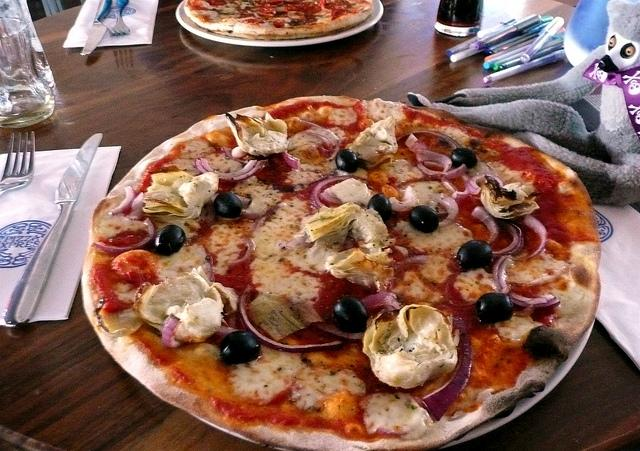onion: (238, 284, 344, 353), (420, 319, 472, 422), (91, 218, 157, 254), (423, 161, 470, 198), (510, 214, 547, 261), (195, 158, 262, 181), (396, 129, 464, 148), (311, 176, 348, 208), (201, 158, 257, 178), (472, 206, 499, 244), (492, 223, 524, 255), (311, 322, 364, 341), (506, 291, 560, 308), (360, 291, 401, 313), (226, 236, 255, 266), (415, 149, 452, 172), (418, 163, 468, 180), (466, 174, 504, 194), (111, 186, 136, 215), (307, 130, 334, 156), (162, 316, 182, 347), (498, 255, 512, 294), (126, 192, 144, 220), (222, 146, 247, 165), (388, 197, 416, 212), (282, 150, 302, 169), (409, 140, 428, 153), (406, 254, 428, 265), (218, 326, 238, 336)
